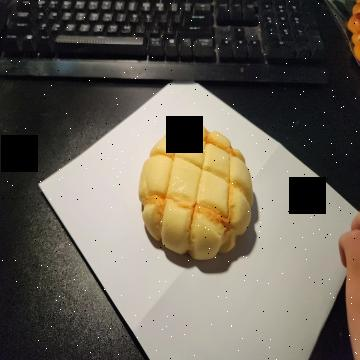melon_bread: (137, 124, 255, 264)
